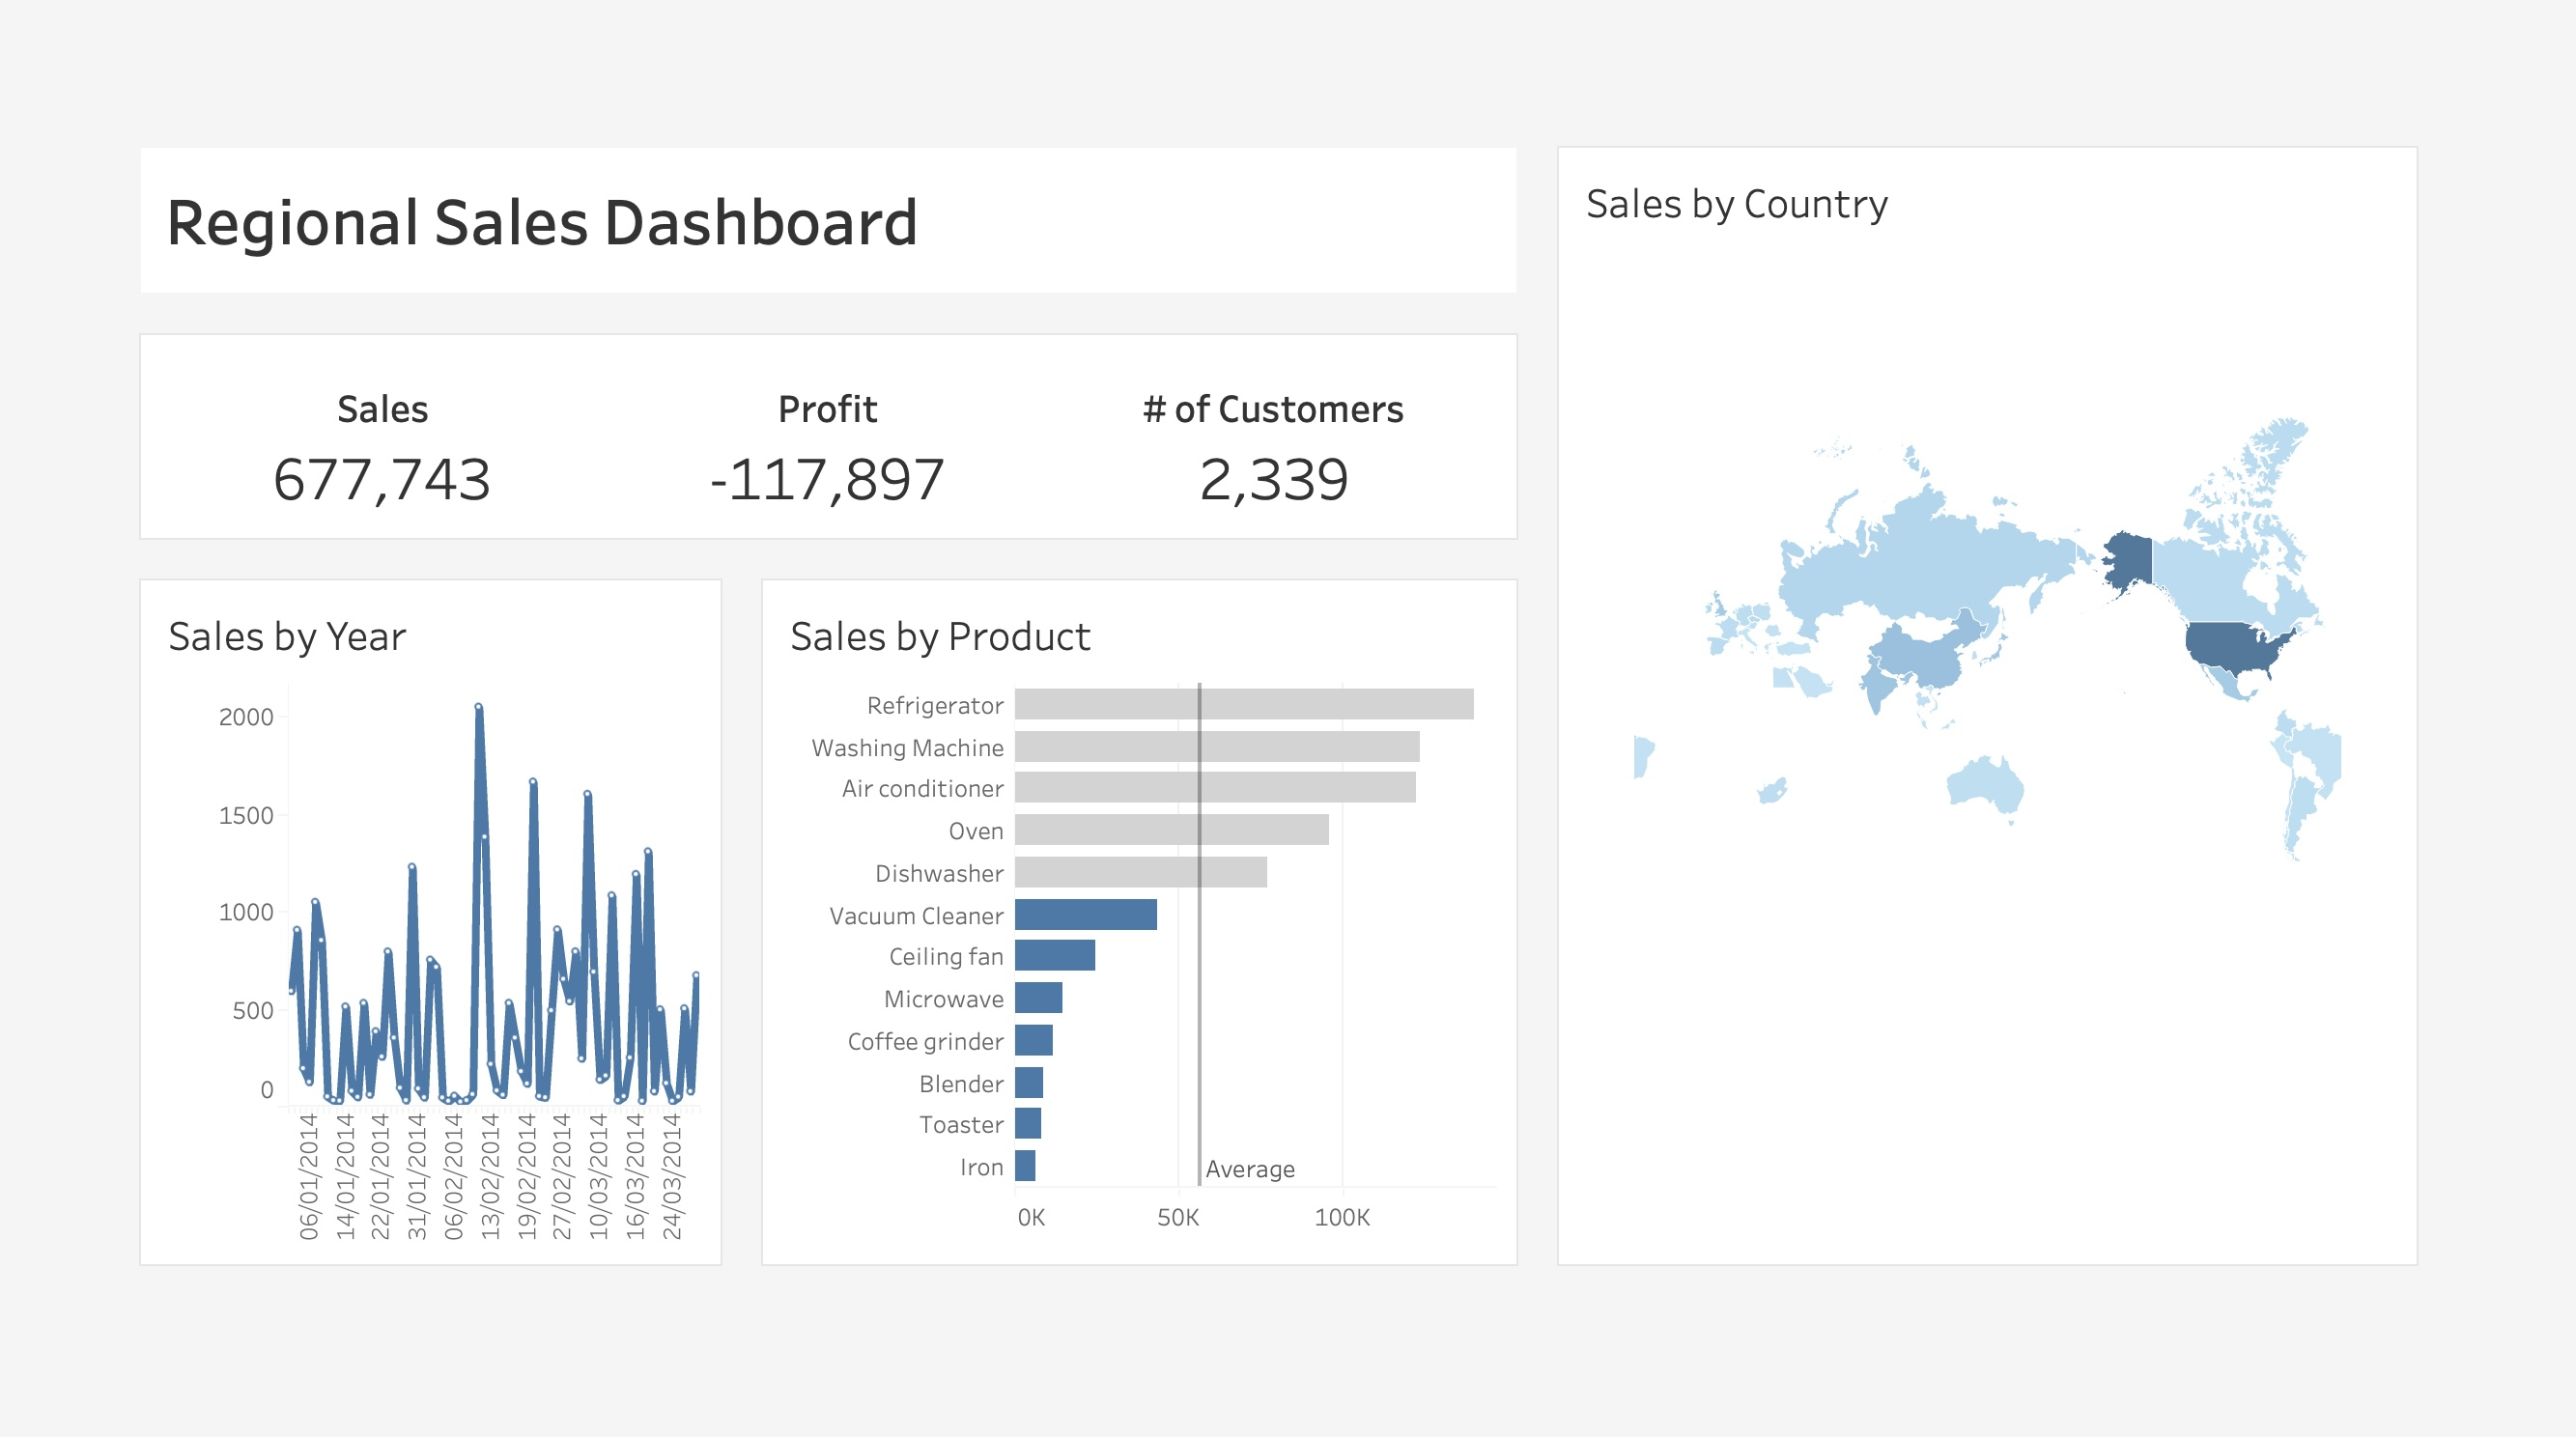

The page's visual inventory and layout, read from the dashboard file:
{"tool":"tableau","page":{"name":"Dashboard","canvas":[1200,600],"ordinal":0},"visuals":[{"type":"text","box":[0,0,734,97]},{"type":"worksheet","title":"Sales by Country","mark":"Automatic","box":[734,0,466,600]},{"type":"worksheet","title":"KPIs","mark":"Automatic","box":[0,97,734,127]},{"type":"worksheet","title":"Sales by Year","mark":"Line","rows":["Calculation_307863277725605889","Calculation_307863277725605889"],"cols":["Date"],"box":[0,224,322,376]},{"type":"worksheet","title":"Sales by Product","mark":"Automatic","rows":["Item"],"cols":["Calculation_307863277725605889"],"box":[322,224,412,376]}]}

Visuals, with their boxes on the page's 1200x600 design canvas (x1, y1, x2, y2). These are canvas units, not pixel positions in the 2576x1437 screenshot, which may show the page scaled, cropped or inside an application window:
text: locate(0, 0, 734, 97)
"Sales by Country" worksheet: locate(734, 0, 1200, 600)
"KPIs" worksheet: locate(0, 97, 734, 224)
"Sales by Year" worksheet (Line marks): locate(0, 224, 322, 600)
"Sales by Product" worksheet: locate(322, 224, 734, 600)
